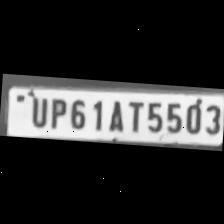0: (182, 100, 202, 133)
1: (88, 96, 106, 132)
3: (202, 101, 222, 135)
5: (142, 99, 164, 134), (163, 99, 183, 134)
6: (65, 96, 89, 130)
A: (104, 96, 126, 132)
P: (46, 94, 66, 130)
T: (124, 98, 144, 134)
U: (25, 94, 49, 128)
